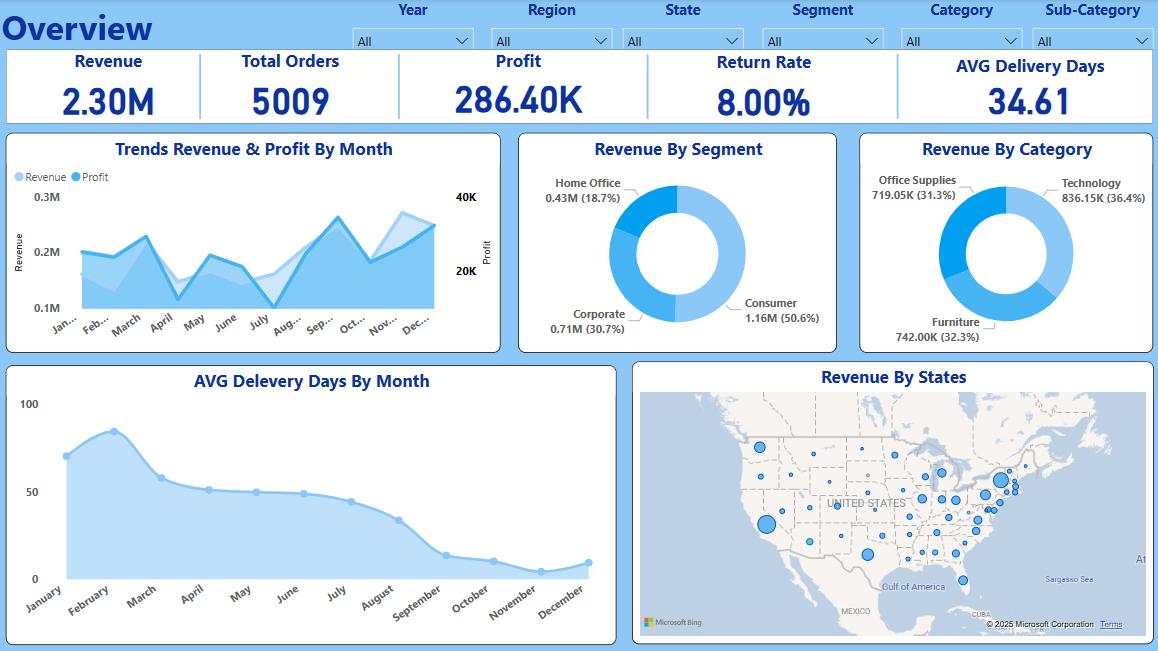

The page's visual inventory and layout, read from the dashboard file:
{"tool":"powerbi","page":{"name":"Overview","canvas":[1280,720],"ordinal":0},"visuals":[{"type":"shape","box":[0,0,1280.3,720.4],"z":0},{"type":"textbox","box":[0,0,380.1,60.4],"z":1000},{"type":"slicer","title":"Year","fields":{"Values":["Retail Order.Year"]},"box":[380,0,152.9,54.3],"z":2000},{"type":"slicer","title":"Region","fields":{"Values":["Retail Order.Region"]},"box":[532.9,0,152.9,54.3],"z":3000},{"type":"slicer","title":"State","fields":{"Values":["Retail Order.State"]},"box":[677.1,0,152.9,54.3],"z":4000},{"type":"slicer","title":"Segment","fields":{"Values":["Retail Order.Segment"]},"box":[830,0,152.9,54.3],"z":5000},{"type":"slicer","title":"Category","fields":{"Values":["Retail Order.Category"]},"box":[982.9,0,152.9,54.3],"z":6000},{"type":"slicer","title":"Sub-Category","fields":{"Values":["Retail Order.Sub-Category"]},"box":[1127.1,0,152.9,54.3],"z":7000},{"type":"shape","box":[9.6,54.9,1259.7,82.3],"z":8000},{"type":"card","title":"Revenue","fields":{"Values":["Sum(Retail Order.Sales)"]},"box":[22,54.9,200.3,82.3],"z":9000},{"type":"card","title":"Total Orders","fields":{"Values":["Count(Retail Order.Order ID)"]},"box":[236,54.9,171.5,82.3],"z":10000},{"type":"card","title":"Profit","fields":{"Values":["Sum(Retail Order.Profit)"]},"box":[456.9,54.9,230.5,76.8],"z":11000},{"type":"card","title":"Return Rate","fields":{"Values":["Measure.return rate"]},"box":[736.9,56.3,209.9,81],"z":12000},{"type":"card","title":"AVG Delivery Days","fields":{"Values":["Avg(Retail Order.Days)"]},"box":[1022.3,60.4,223.7,71.4],"z":13000},{"type":"areaChart","title":"Trends Revenue & Profit By Month","fields":{"Y":["Measure.Total Revenue"],"Y2":["Measure.Total Profit"],"Category":["Retail Order.Order Date.Variation.Date Hierarchy.Month"]},"box":[9.6,146.8,543.4,241.5],"z":14000},{"type":"donutChart","title":"Revenue By Segment","fields":{"Y":["Sum(Retail Order.Sales)"],"Category":["Retail Order.Segment"]},"box":[572.2,146.8,349.9,241.5],"z":15000},{"type":"donutChart","title":"Revenue By Category","fields":{"Category":["Retail Order.Category"],"Y":["Sum(Retail Order.Sales)"]},"box":[946.8,146.8,322.5,241.5],"z":16000},{"type":"lineChart","title":"AVG Delevery Days By Month","fields":{"Y":["Avg(Retail Order.Days)"],"Category":["Retail Order.Order Date.Variation.Date Hierarchy.Month"]},"box":[10,401.4,670,307.1],"z":17000},{"type":"shape","box":[189.4,60.4,67.2,71.4],"z":18000},{"type":"shape","box":[955.1,60.4,67.2,71.4],"z":19000},{"type":"shape","box":[680.6,60.4,67.2,71.4],"z":20000},{"type":"shape","box":[407.5,60.4,67.2,71.4],"z":21000},{"type":"map","title":"Revenue By States","fields":{"Size":["Sum(Retail Order.Sales)"],"X":["Retail Order.longitude"],"Y":["Retail Order.latitude"],"Series":["Retail Order.State"]},"box":[697.1,398.6,572.9,310],"z":22000}]}

Visuals, with their boxes in screenshot pixels (x1, y1, x2, y2), scaled from the page's 1280x720 canvas onto the 1158x651 screenshot:
shape: box(0, 0, 1157, 650)
textbox: box(0, 0, 344, 55)
"Year" slicer: box(344, 0, 482, 49)
"Region" slicer: box(482, 0, 620, 49)
"State" slicer: box(613, 0, 751, 49)
"Segment" slicer: box(751, 0, 889, 49)
"Category" slicer: box(889, 0, 1028, 49)
"Sub-Category" slicer: box(1020, 0, 1157, 49)
shape: box(9, 50, 1148, 124)
"Revenue" card: box(20, 50, 201, 124)
"Total Orders" card: box(214, 50, 369, 124)
"Profit" card: box(413, 50, 622, 119)
"Return Rate" card: box(667, 51, 857, 124)
"AVG Delivery Days" card: box(925, 55, 1127, 119)
"Trends Revenue & Profit By Month" areaChart: box(9, 133, 500, 351)
"Revenue By Segment" donutChart: box(518, 133, 834, 351)
"Revenue By Category" donutChart: box(857, 133, 1148, 351)
"AVG Delevery Days By Month" lineChart: box(9, 363, 615, 641)
shape: box(171, 55, 232, 119)
shape: box(864, 55, 925, 119)
shape: box(616, 55, 677, 119)
shape: box(369, 55, 429, 119)
"Revenue By States" map: box(631, 360, 1149, 641)
